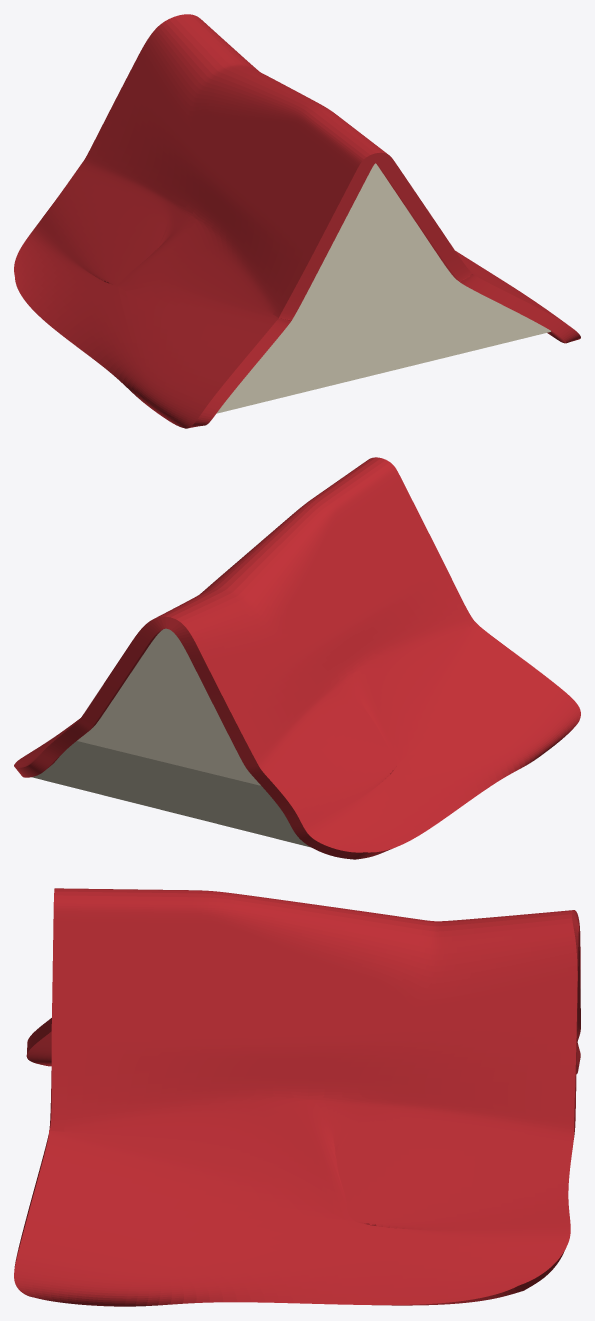
File: Home1.fbx
The picture shows the model from 3 angles, top to bottom: view 1: azimuth 30°, elevation 25°; view 2: azimuth 150°, elevation 25°; view 3: azimuth 270°, elevation 25°; orthographic projection. The views are drawn at different scales.
Visible parts, largest first — view 1: Tent.LR, Tent2; view 2: Tent.LR, Tent2; view 3: Tent.LR.
Boxes of the visible parts, box(x1,y1,x2,y2) form: Tent.LR: box(14, 14, 580, 428); Tent2: box(216, 163, 550, 413); Tent.LR: box(14, 457, 580, 859); Tent2: box(32, 628, 310, 847); Tent.LR: box(14, 888, 580, 1306).
Size of the model in its own units: 447 by 260 by 444.
